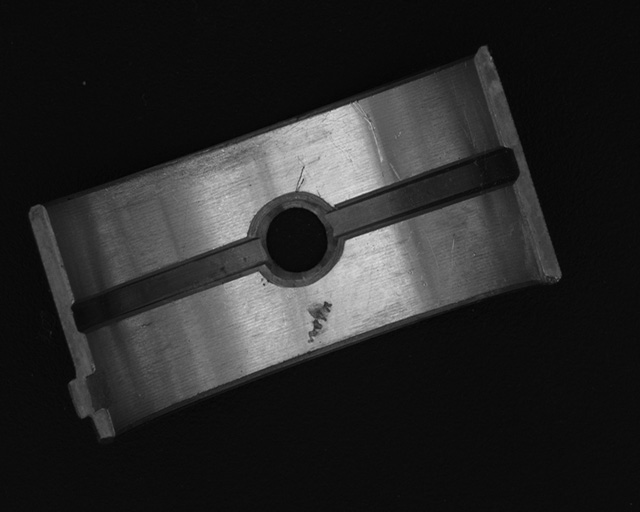bruise: (306, 300, 333, 344)
gap: (75, 239, 261, 332), (330, 148, 516, 235)
hole: (254, 192, 341, 280)
nick: (352, 100, 386, 165), (294, 164, 307, 194)
scratch: (104, 135, 265, 200)
